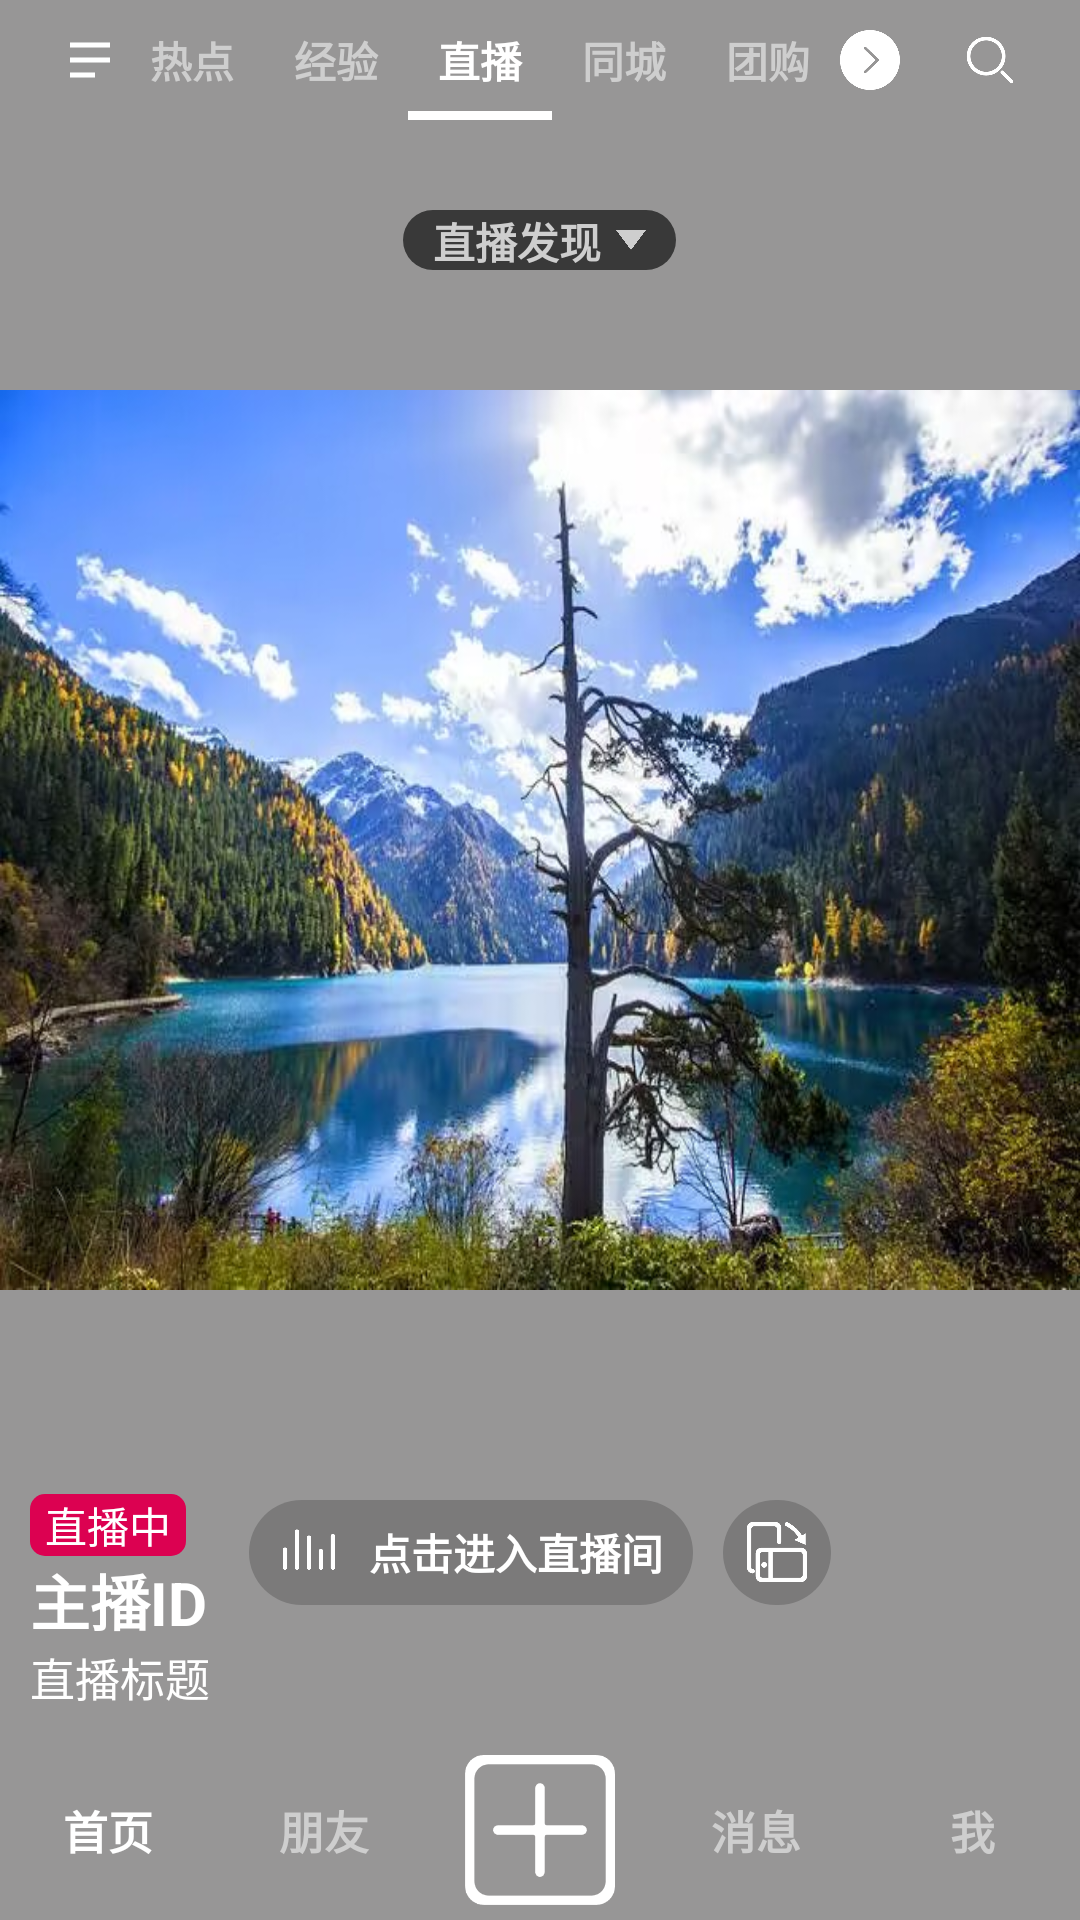

Icon click points for this 1080 x 1920 phone screenshot, format (x=x, y=y):
add: (x=540, y=1830)
arrow: (x=870, y=60)
inverted triangle: (x=631, y=239)
list: (x=90, y=60)
live ing: (x=309, y=1549)
